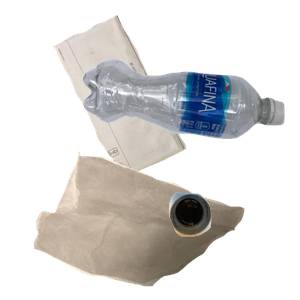glass: (166, 190, 300, 300)
paper: (51, 13, 230, 186)
plastic: (80, 56, 300, 187)
trash: (31, 149, 268, 300)
